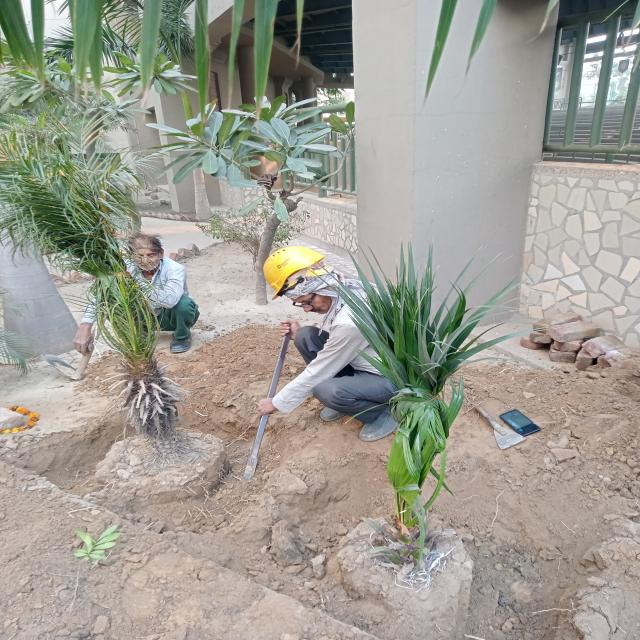no jacket: (255, 242, 435, 443)
